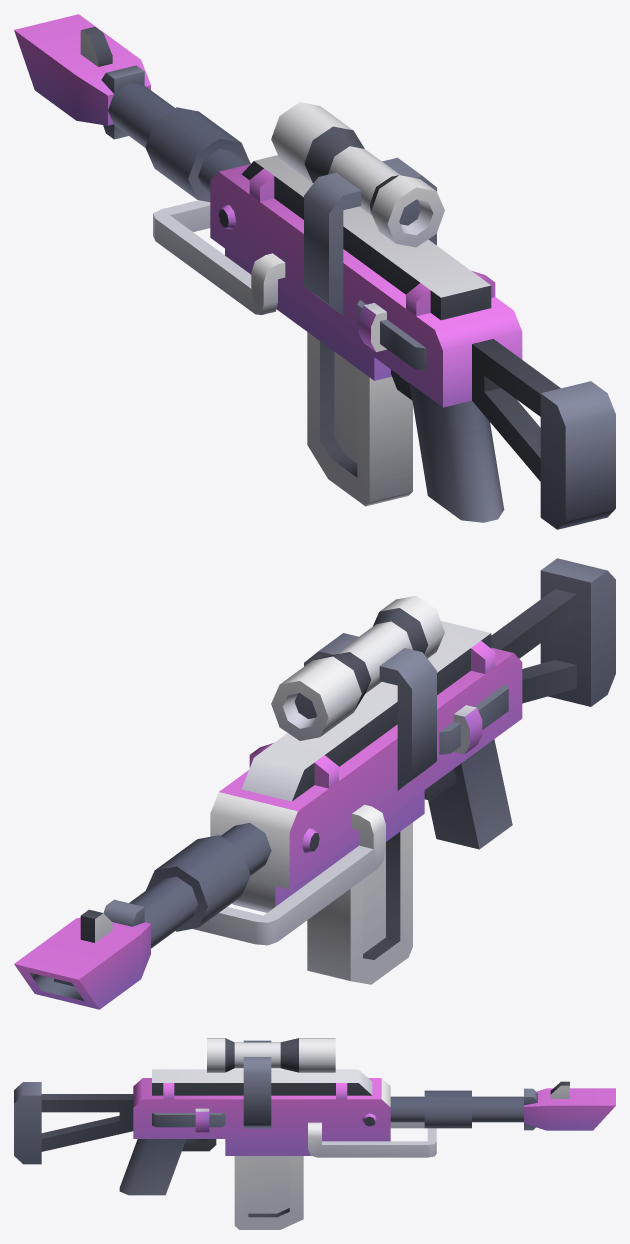
The model's file is blaster-f.glb.
3 renders of one model, top to bottom at view 1: azimuth 30°, elevation 25°; view 2: azimuth 150°, elevation 25°; view 3: azimuth 270°, elevation 25°, orthographic. The views are drawn at different scales.
Parts seen in each view (by area): view 1: blaster-f, scope, magazine; view 2: blaster-f, scope, magazine; view 3: blaster-f, scope, magazine.
Boxes of the visible parts, bbox=[...] form: blaster-f: bbox=[14, 14, 615, 529]; scope: bbox=[271, 102, 444, 315]; magazine: bbox=[307, 332, 412, 506]; blaster-f: bbox=[14, 558, 615, 1009]; scope: bbox=[271, 595, 444, 790]; magazine: bbox=[307, 822, 412, 984]; blaster-f: bbox=[14, 1069, 615, 1195]; scope: bbox=[207, 1038, 335, 1128]; magazine: bbox=[234, 1156, 303, 1229].
Bounding box in the file's own units: 0.17 × 0.445 × 1.31.
1 material, 1 textured.
